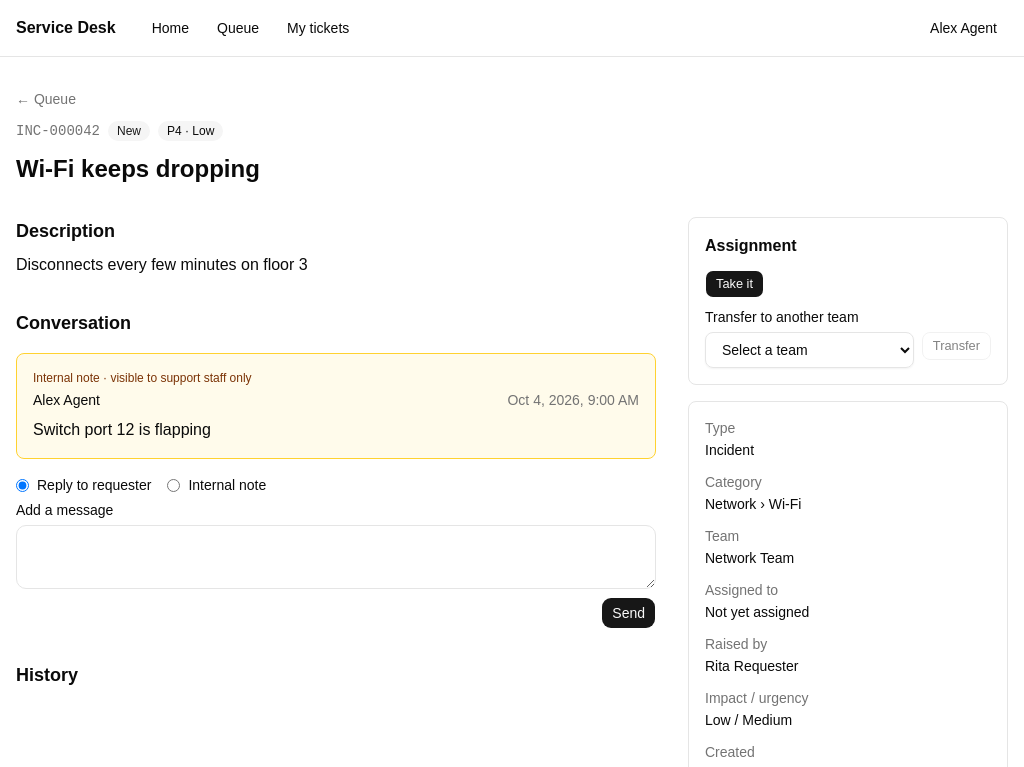
ticket page for support staff › transfers to another team and returns to the queue with a notice
This screenshot has width=1024, height=767.
Select "Hardware Team" in the dropdown labelled "Transfer to another team" at (809, 350), box left=705, top=332, right=914, bottom=368
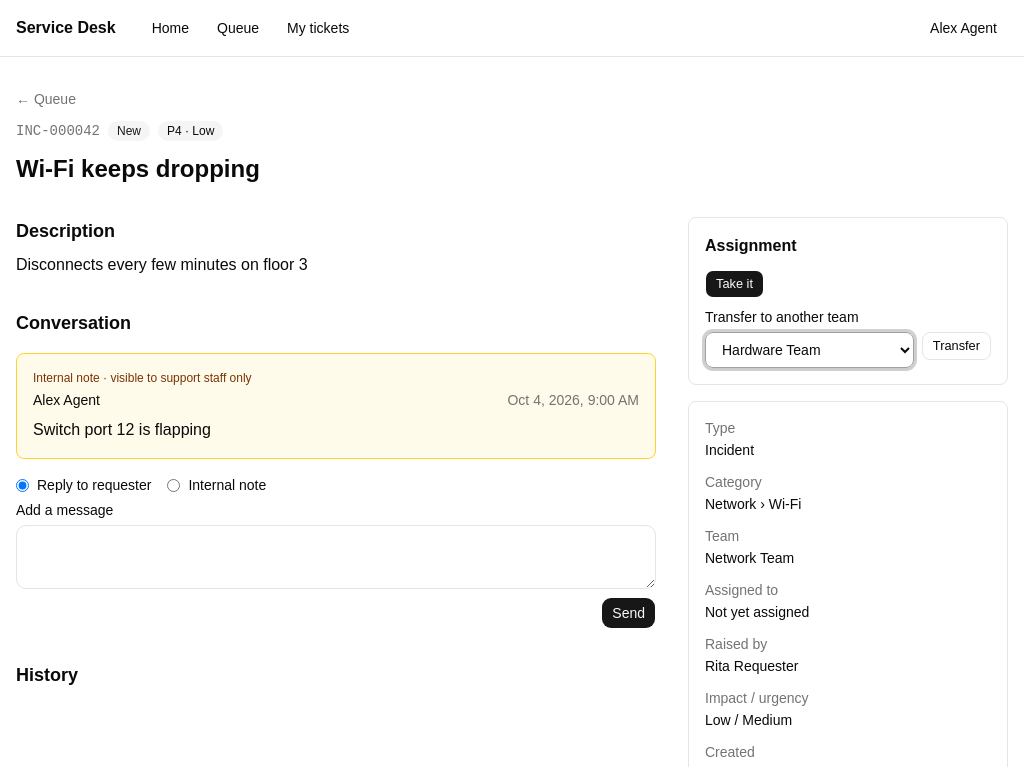
Click the button "Transfer" at (956, 346), box left=922, top=332, right=991, bottom=360
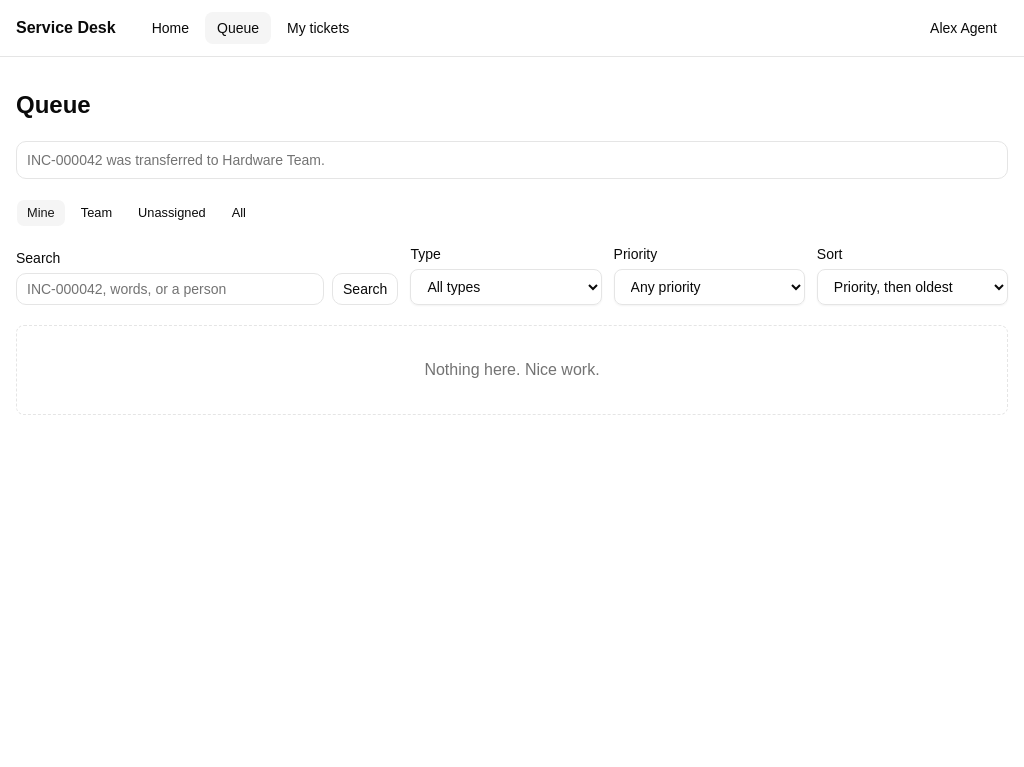
Result: the text "INC-000042 was transferred to Hardware Team." is shown at left=27, top=152, right=325, bottom=168
